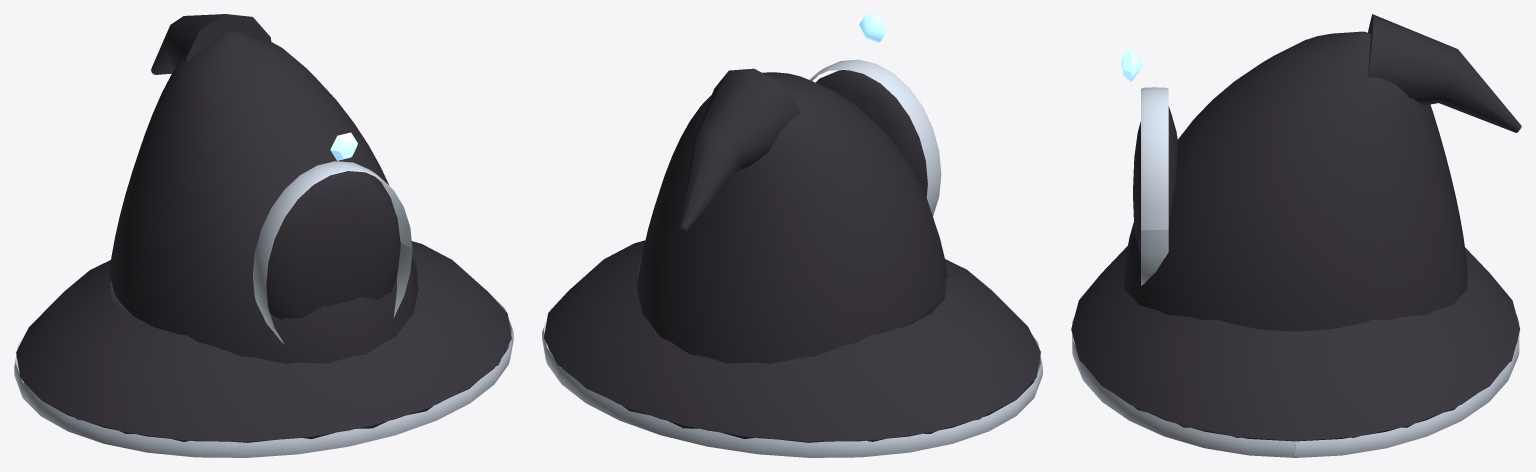
Rendered from depth_gloomthread_crown.glb.
3 renders of one model, left to right at view 1: azimuth 30°, elevation 25°; view 2: azimuth 150°, elevation 25°; view 3: azimuth 270°, elevation 25°, orthographic. The views are drawn at different scales.
Parts seen in each view (by area): view 1: depth_gloomthread_crown; view 2: depth_gloomthread_crown; view 3: depth_gloomthread_crown.
Boxes of the visible parts, x1,y1,x2,y2 form: depth_gloomthread_crown: (14,14,513,457); depth_gloomthread_crown: (542,14,1042,457); depth_gloomthread_crown: (1071,14,1521,457).
Size of the model in its own units: 0.4532 by 0.3083 by 0.3838.
